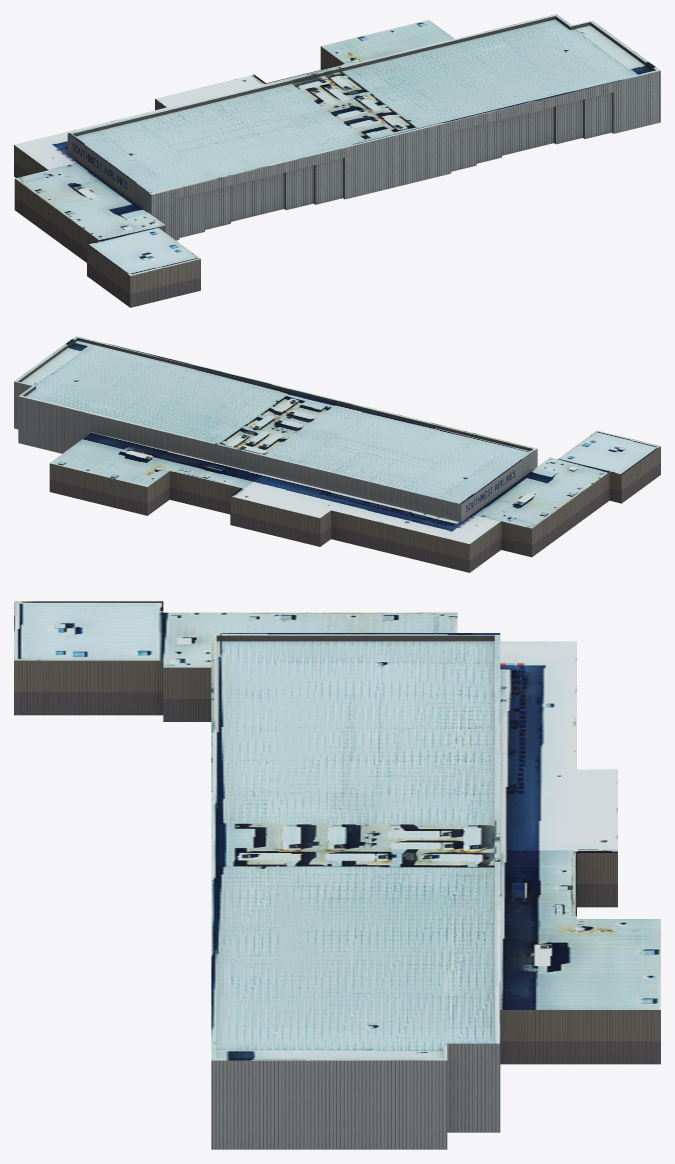
The model's file is Building3.gltf.
3 renders of one model, top to bottom at view 1: azimuth 30°, elevation 25°; view 2: azimuth 150°, elevation 25°; view 3: azimuth 270°, elevation 25°, orthographic. The views are drawn at different scales.
Parts seen in each view (by area): view 1: Building3; view 2: Building3; view 3: Building3.
Boxes of the visible parts, box(x1,y1,x2,y2) form: Building3: box(14, 14, 660, 307); Building3: box(14, 336, 660, 572); Building3: box(14, 601, 660, 1149).
Size of the model in its own units: 184 by 15.5 by 102.
Materials: 1 (1 with a texture image).
